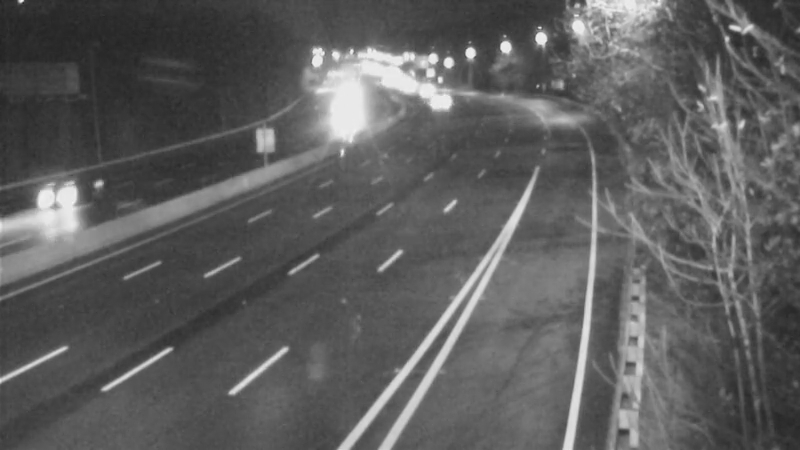vehicle: (17, 155, 97, 235), (1, 186, 66, 266), (407, 65, 457, 115), (420, 78, 470, 128)
